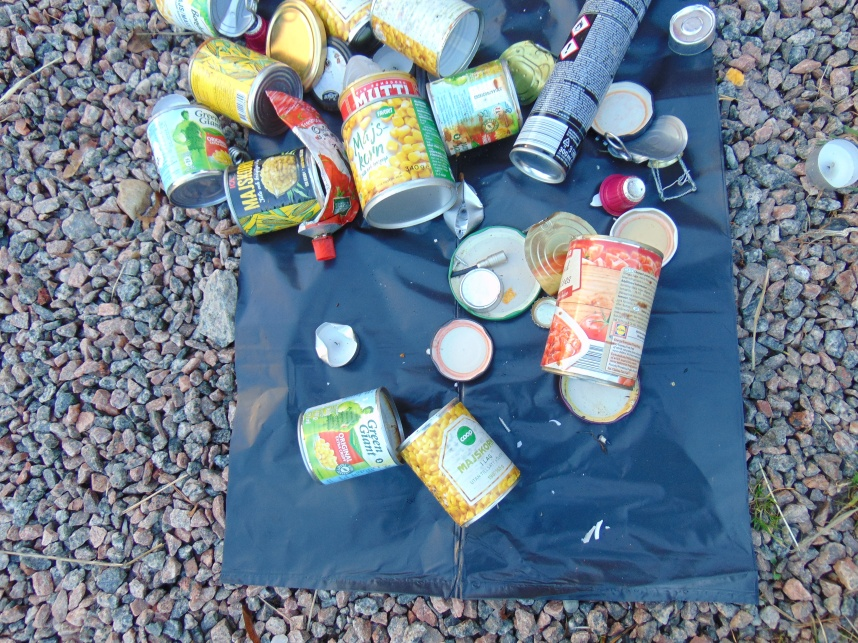metal: (266, 86, 362, 236), (448, 224, 546, 320), (527, 211, 603, 295), (556, 365, 640, 429), (263, 1, 325, 86), (606, 111, 689, 168), (608, 207, 681, 270), (429, 318, 494, 383), (588, 81, 653, 145), (502, 37, 556, 102), (805, 136, 858, 197), (314, 36, 356, 105), (668, 3, 717, 59), (444, 173, 488, 235), (647, 152, 703, 199), (458, 266, 506, 314), (313, 320, 359, 368), (350, 40, 415, 72), (594, 177, 647, 216), (528, 296, 561, 328), (241, 15, 271, 50)
metal_can: (510, 1, 652, 187), (540, 232, 665, 393), (336, 68, 458, 230), (400, 398, 523, 529), (188, 37, 306, 144), (297, 387, 407, 486), (425, 56, 526, 157), (369, 1, 485, 82), (148, 102, 233, 212), (222, 149, 326, 238), (154, 1, 228, 37), (320, 1, 373, 47)
